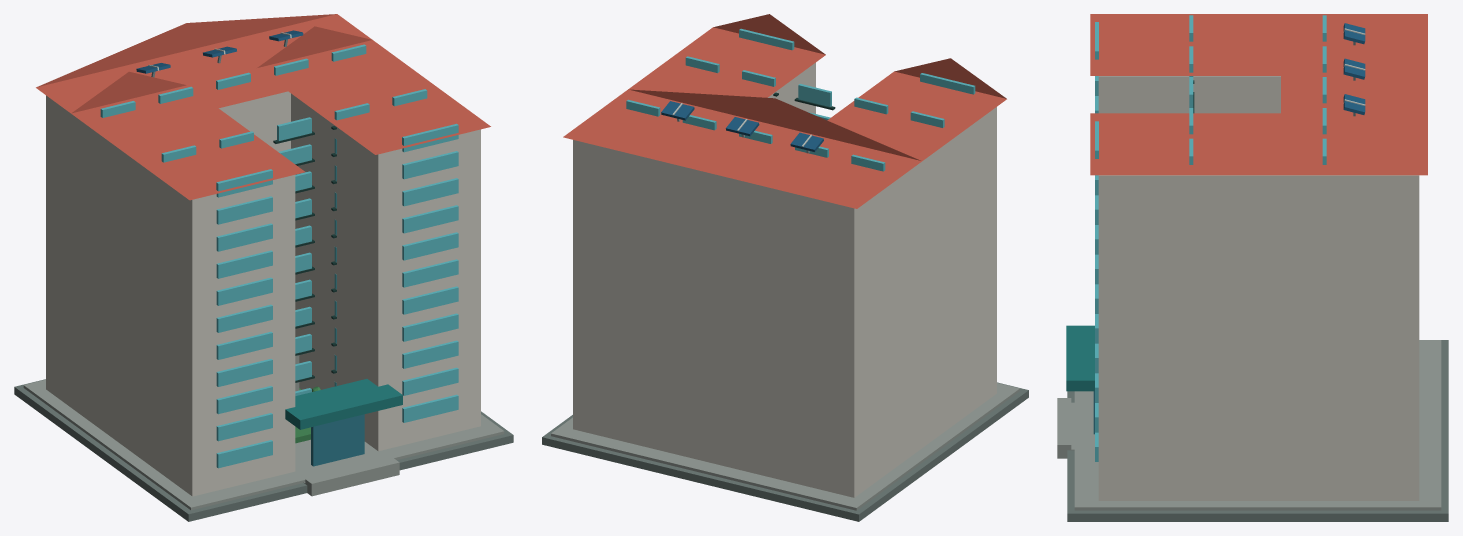
File: university_lv4.glb
The picture shows the model from 3 angles, left to right: view 1: azimuth 30°, elevation 25°; view 2: azimuth 150°, elevation 25°; view 3: azimuth 270°, elevation 25°; orthographic projection. The views are drawn at different scales.
Parts seen in each view (by area): view 1: rough, glossy, metallic; view 2: rough, glossy, metallic; view 3: rough, glossy, metallic.
Part boxes in pixels (x1,y1,x2,y2): rough: (14, 14, 513, 521); glossy: (100, 44, 458, 468); metallic: (136, 30, 303, 77); rough: (542, 14, 1028, 521); glossy: (626, 28, 975, 171); metallic: (661, 101, 823, 153); rough: (1057, 14, 1448, 521); glossy: (1093, 15, 1326, 461); metallic: (1343, 23, 1365, 116).
Size of the model in its own units: 9.8 by 9.76 by 9.34.
